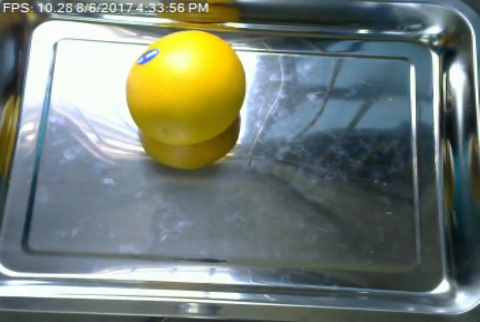Orange: (124, 29, 244, 148)
